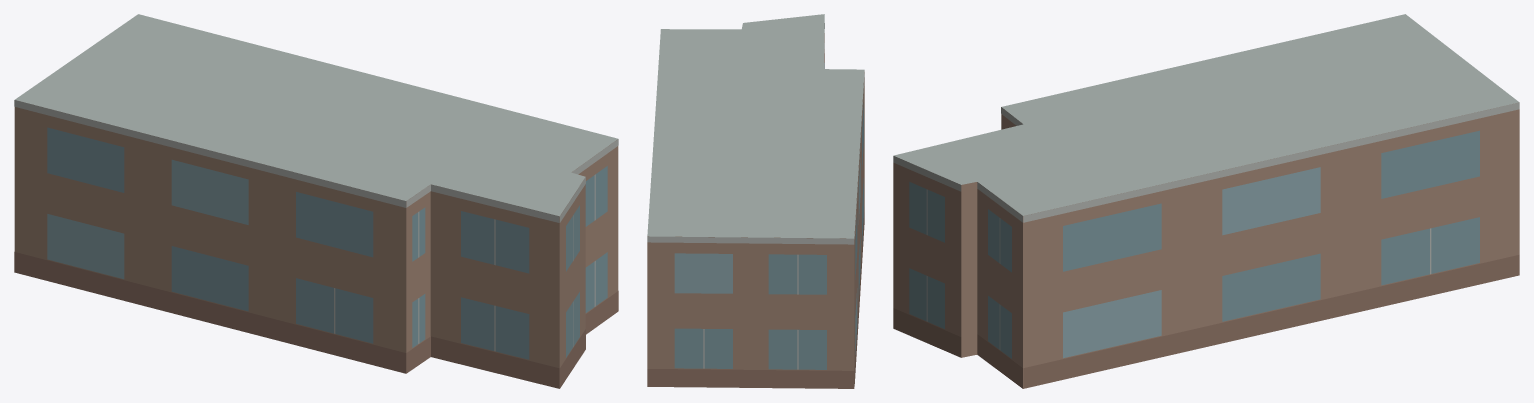
The model's file is survey-upis-32515273.glb.
The picture shows the model from 3 angles, left to right: view 1: azimuth 30°, elevation 25°; view 2: azimuth 150°, elevation 25°; view 3: azimuth 270°, elevation 25°; orthographic projection. The views are drawn at different scales.
Visible parts, largest first — view 1: survey-upis-32515273.tmp; view 2: survey-upis-32515273.tmp; view 3: survey-upis-32515273.tmp.
Boxes of the visible parts, x1,y1,x2,y2 form: survey-upis-32515273.tmp: [14, 14, 618, 388]; survey-upis-32515273.tmp: [647, 14, 864, 388]; survey-upis-32515273.tmp: [893, 14, 1519, 388].
Size of the model in its own units: 15.29 by 6.1 by 20.03.
